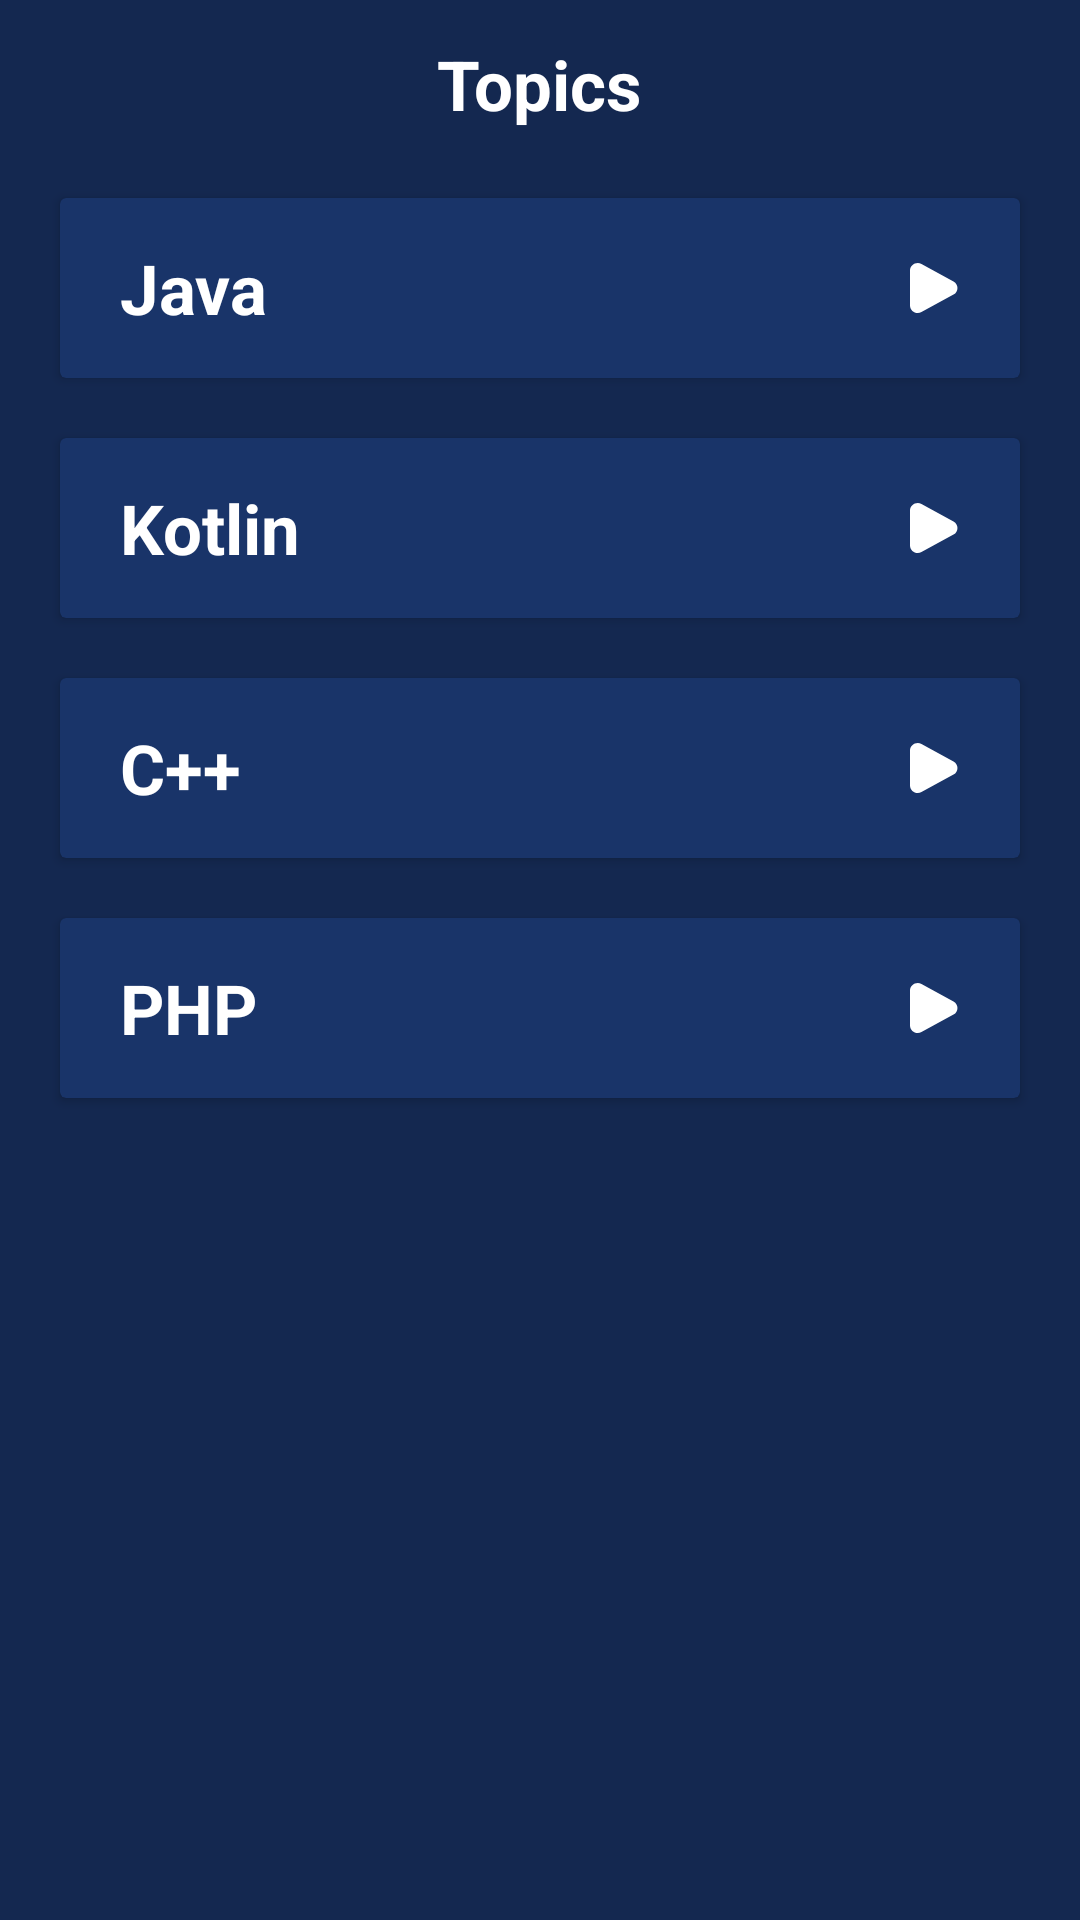

Locate icon controls on the screen. Image size 1080w x 1920h, boxes as [x1=x1, y1=y1, x2=x2, y2=y2].
play: [x1=840, y1=198, x2=1020, y2=378], [x1=840, y1=438, x2=1020, y2=618], [x1=840, y1=678, x2=1020, y2=858], [x1=840, y1=918, x2=1020, y2=1098]
